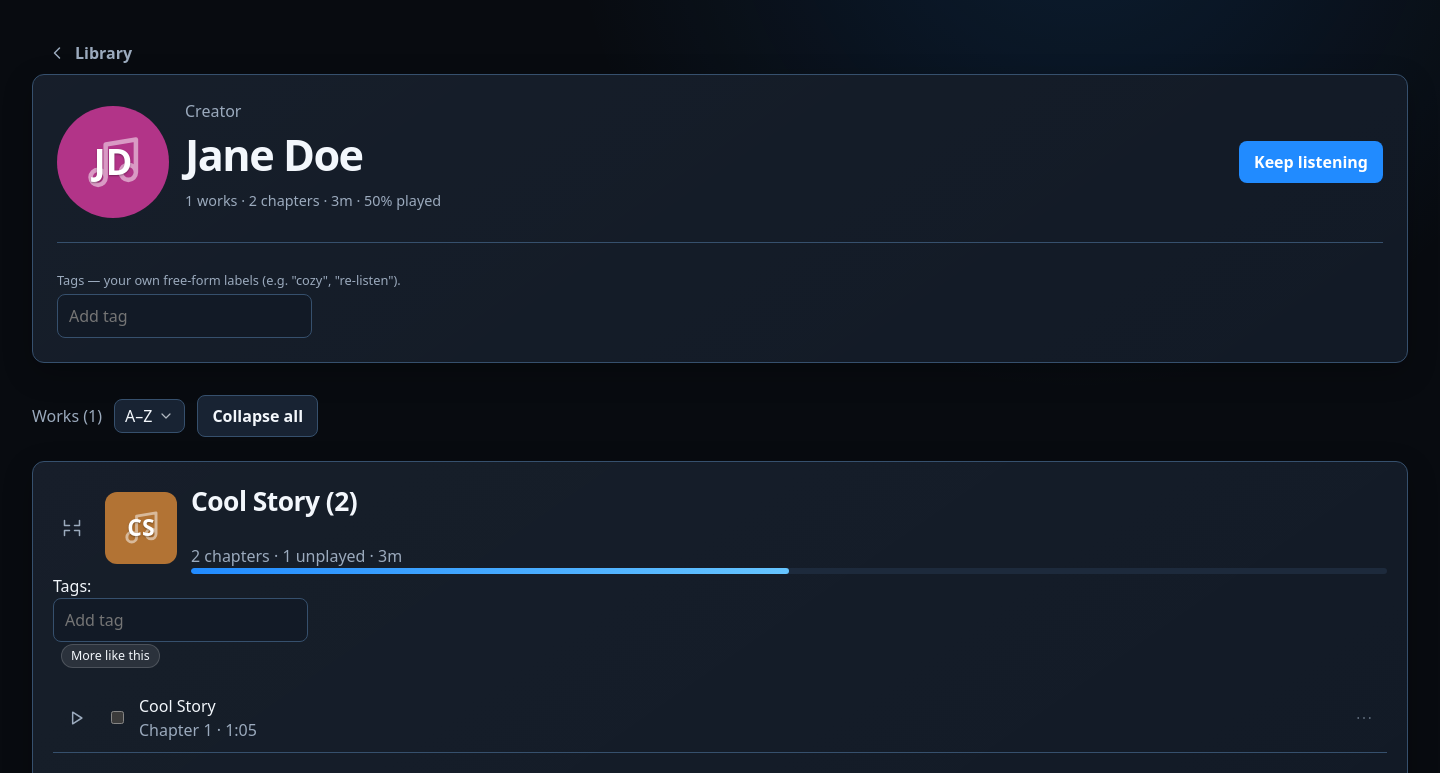
it: AuthorDetailView › renders more-like-this results in a dialog when moreLikeThisMap has results for a work
# Open the dialog by clicking the More like this button.
Click the button "More like this" at (110, 656), box [61,644,160,668]
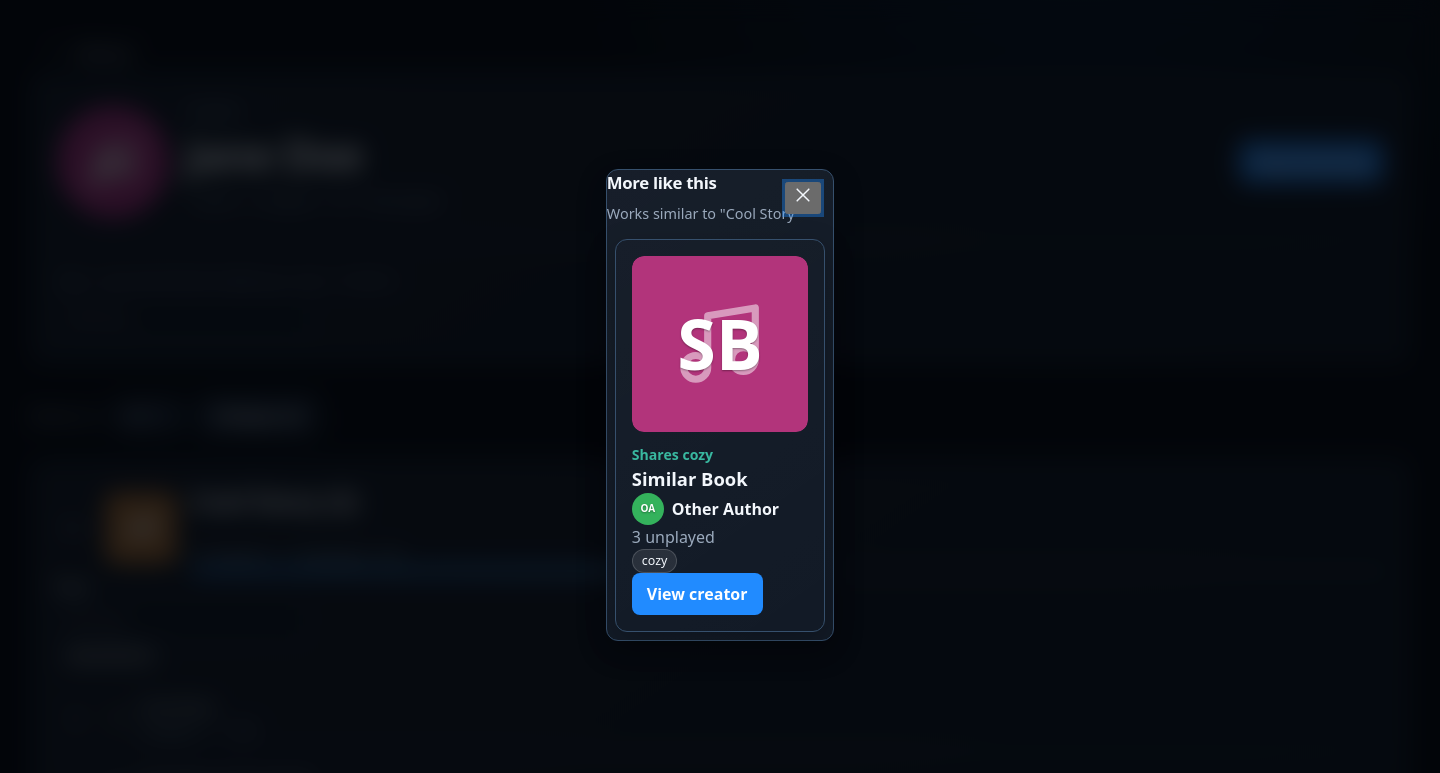
expect the dialog "More like this" is shown: met, box [606,169,834,641]
expect the heading "Similar Book" is shown: met, box [632,466,748,491]
expect the text "Shares cozy" is shown: met, box [632,445,713,464]
